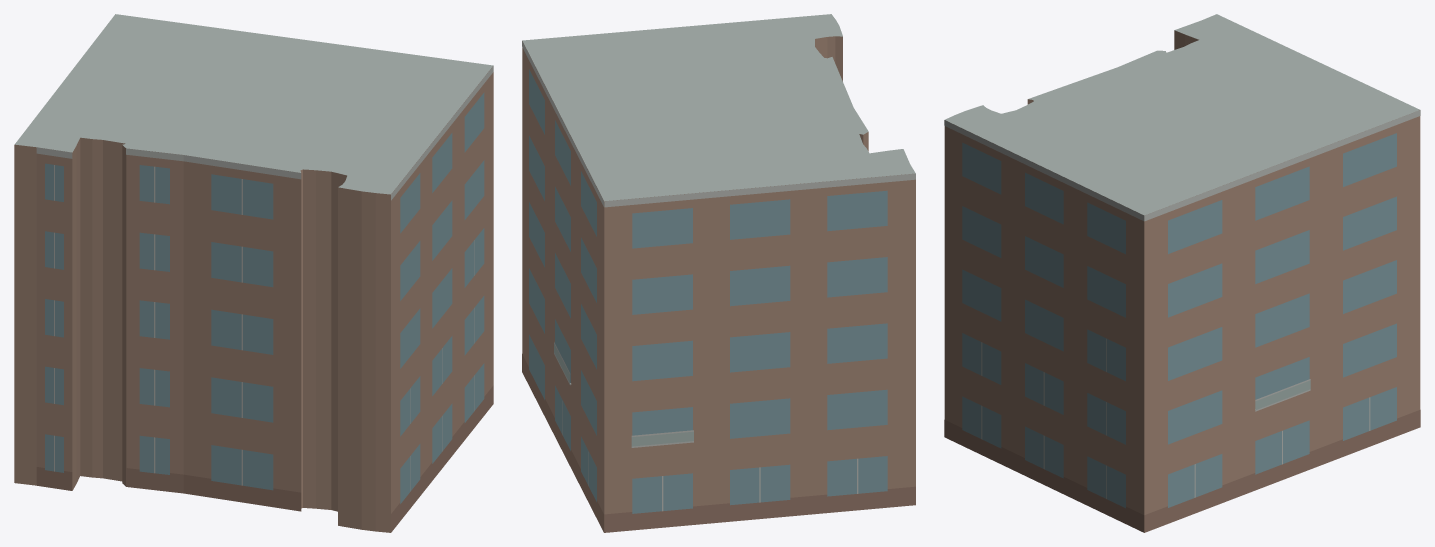
The model's file is survey-upis-32850321.glb.
The picture shows the model from 3 angles, left to right: view 1: azimuth 30°, elevation 25°; view 2: azimuth 150°, elevation 25°; view 3: azimuth 270°, elevation 25°; orthographic projection. The views are drawn at different scales.
Parts seen in each view (by area): view 1: survey-upis-32850321.tmp; view 2: survey-upis-32850321.tmp; view 3: survey-upis-32850321.tmp.
Part boxes in pixels (x1,y1,x2,y2): survey-upis-32850321.tmp: (14,14,493,532); survey-upis-32850321.tmp: (522,14,915,532); survey-upis-32850321.tmp: (944,14,1420,532).
Size of the model in its own units: 17.71 by 13 by 17.68.
